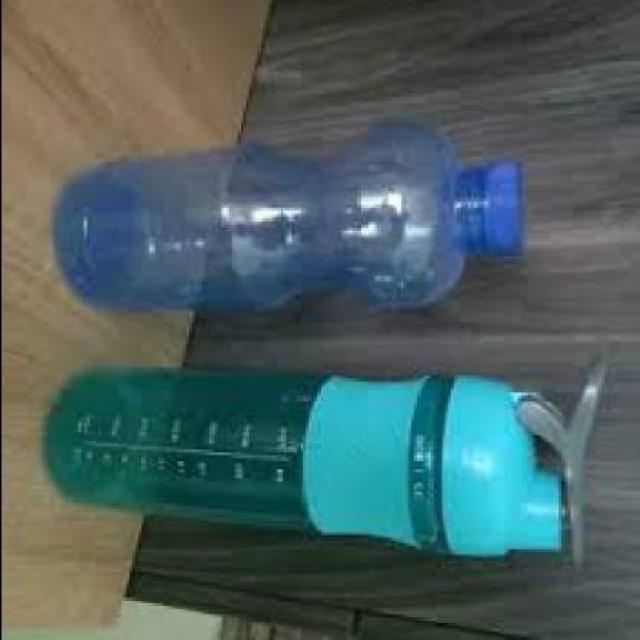PLASTIC: (42, 370, 608, 575), (54, 122, 523, 324), (467, 160, 528, 258)
